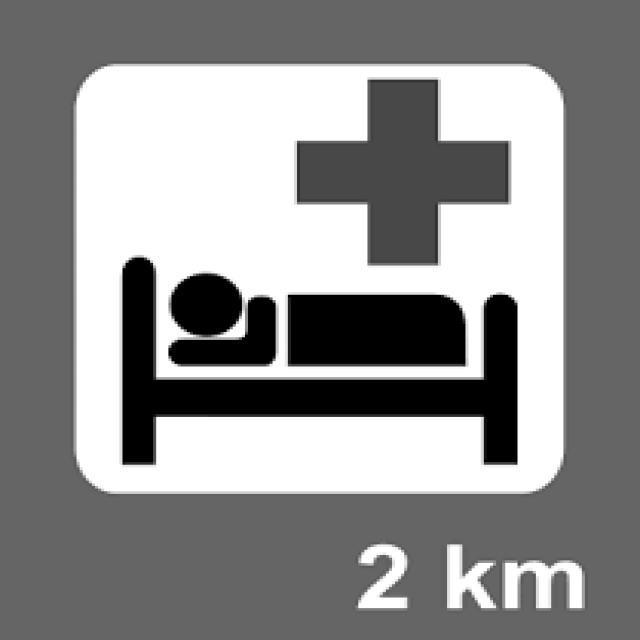hospital ahead: (56, 50, 583, 502)
